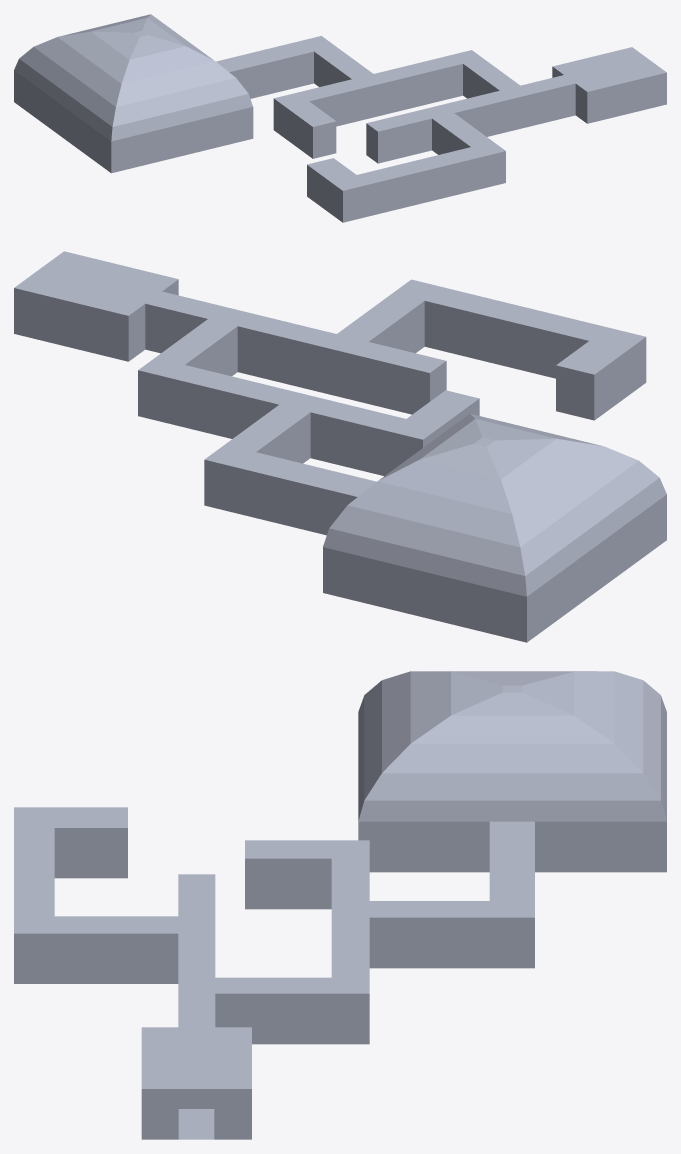
Rendered from enemybase.fbx.
3 views of the same model, one above another, from view 1: azimuth 30°, elevation 25°; view 2: azimuth 150°, elevation 25°; view 3: azimuth 270°, elevation 25° (orthographic). The views are drawn at different scales.
Visible parts, largest first — view 1: Plane.012; view 2: Plane.012; view 3: Plane.012.
Part boxes in pixels (<box>): Plane.012: <box>14,14,666,222</box>; Plane.012: <box>14,251,666,642</box>; Plane.012: <box>14,671,666,1139</box>.
Bounding box in the file's own units: 20288 × 3366 × 14847.
